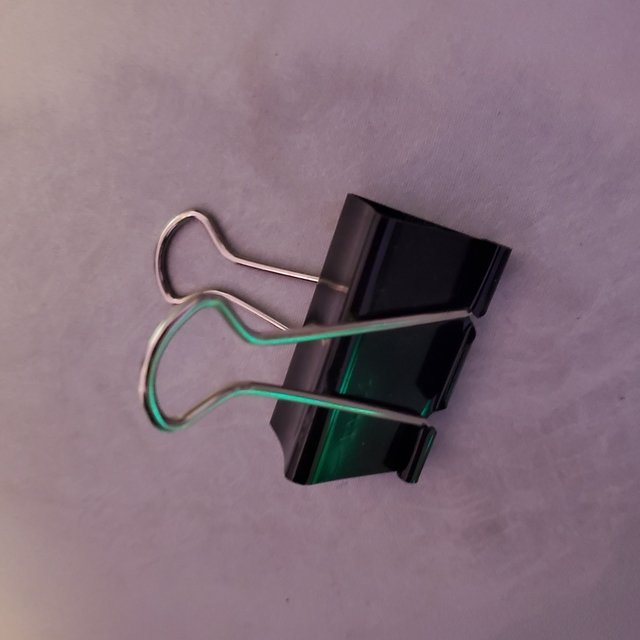clip: (130, 184, 523, 496)
